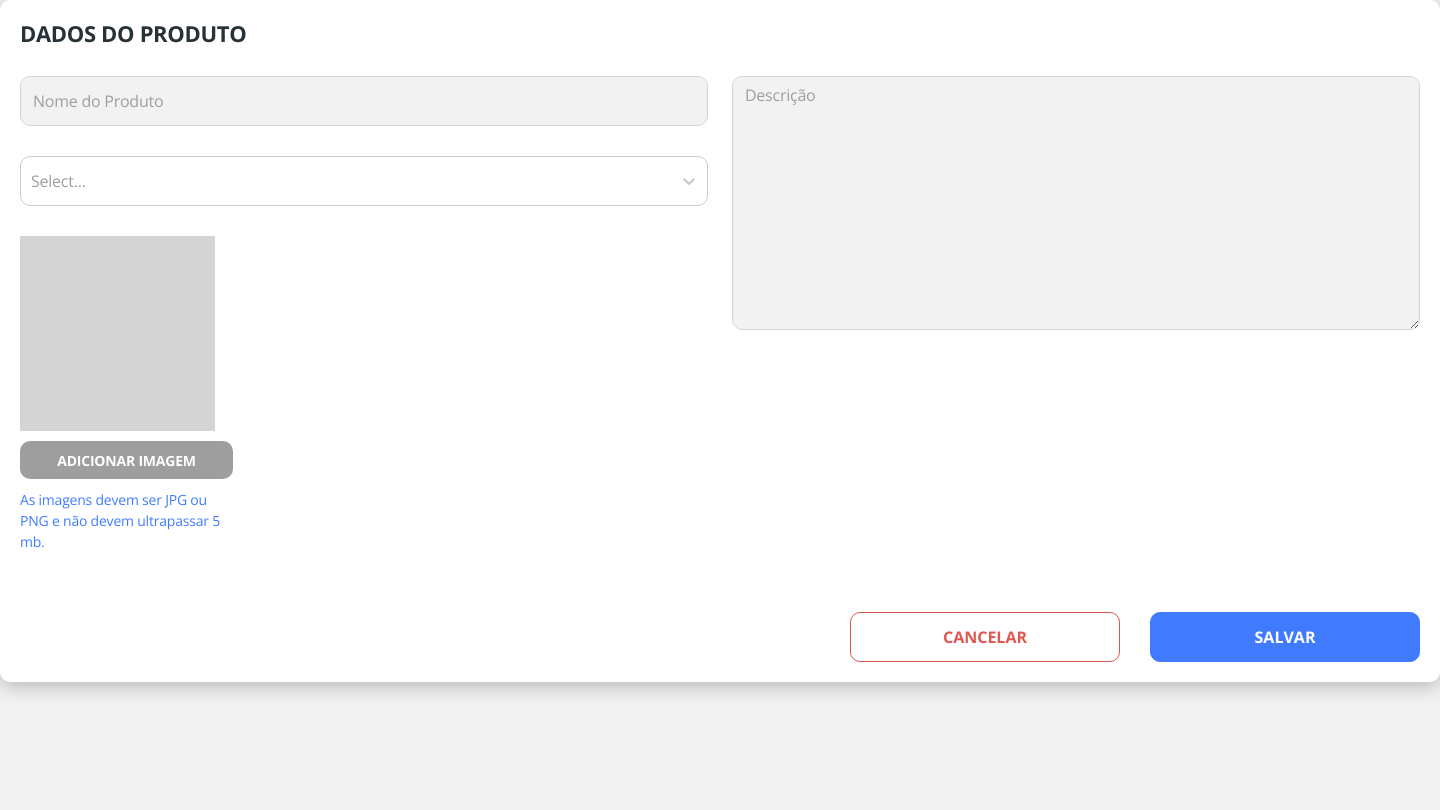
Test: Product for create tests › should show 5 validation messages when just click submit
The width and height of the screenshot is (1440, 810).
Click the button "SALVAR".
click(1285, 637)  # box x1=1150 y1=612 x2=1420 y2=662
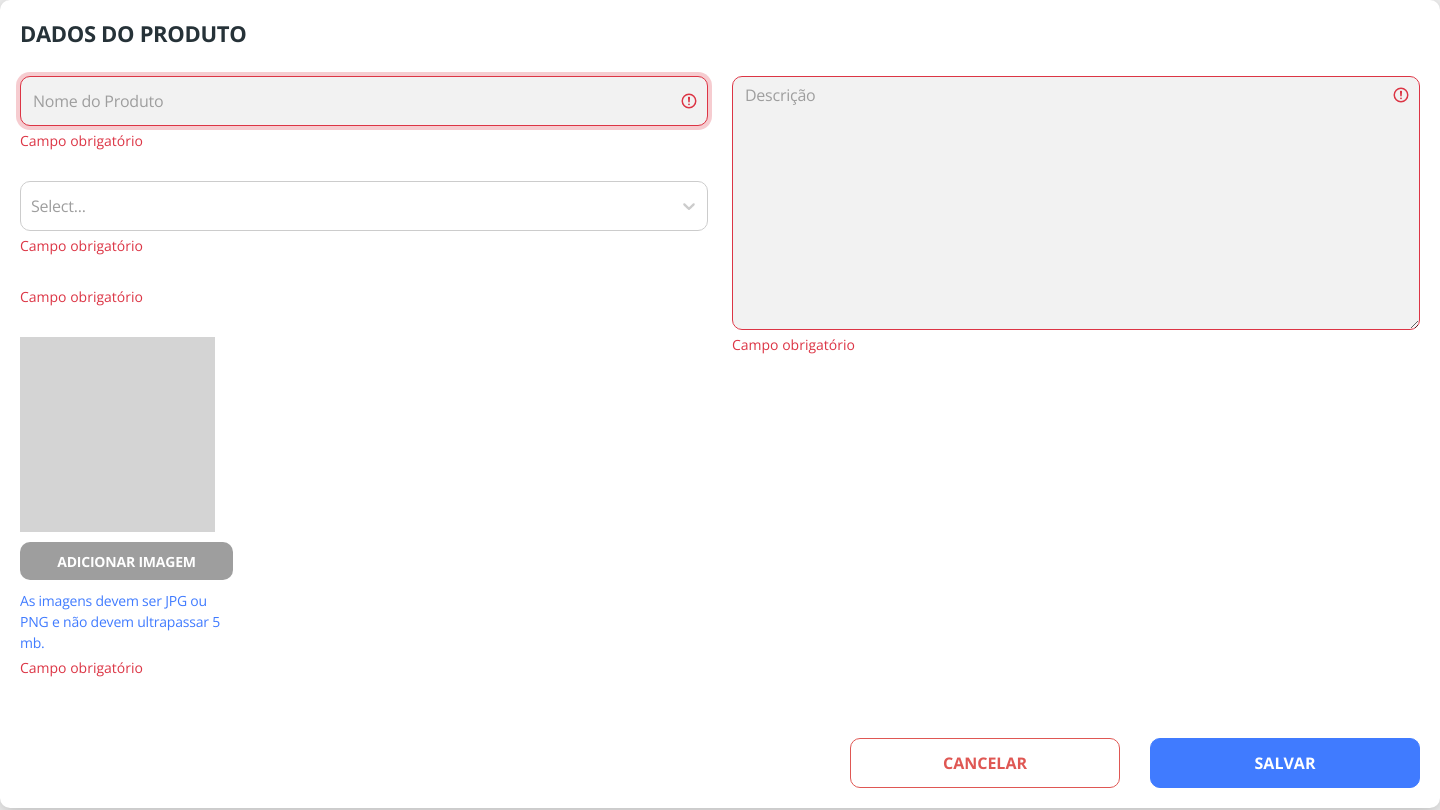
Check: the text "Campo obrigatório" is shown 5 times, box x1=20 y1=131 x2=143 y2=150; x1=20 y1=236 x2=143 y2=255; x1=20 y1=287 x2=143 y2=306; x1=20 y1=658 x2=143 y2=677; x1=732 y1=335 x2=855 y2=354
